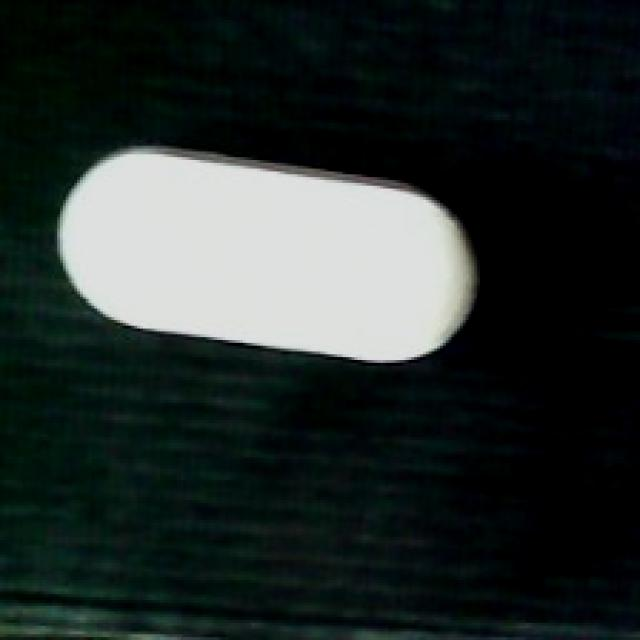no-defect: (51, 146, 480, 363)
